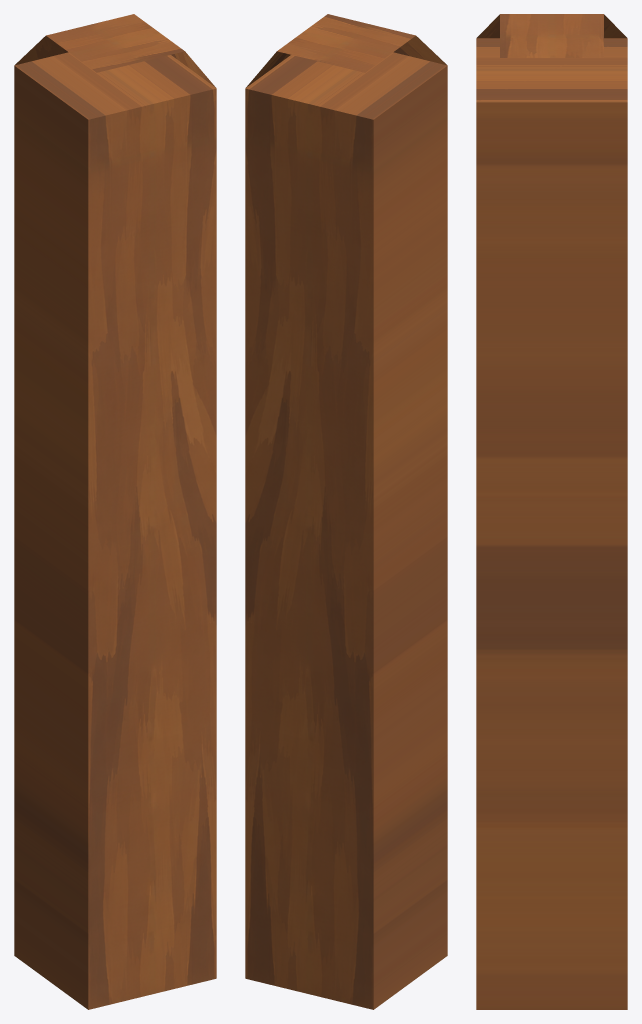
File: fence-post.glb
3 views of the same model, side by side, from view 1: azimuth 30°, elevation 25°; view 2: azimuth 150°, elevation 25°; view 3: azimuth 270°, elevation 25° (orthographic).
Parts seen in each view (by area): view 1: fence-post; view 2: fence-post; view 3: fence-post.
Boxes of the visible parts, box(x1,y1,x2,y2) form: fence-post: box(14, 14, 216, 1009); fence-post: box(245, 14, 447, 1009); fence-post: box(476, 14, 627, 1009).
Size of the model in its own units: 0.16 by 1.1 by 0.16.
Materials: 1 (1 with a texture image).
